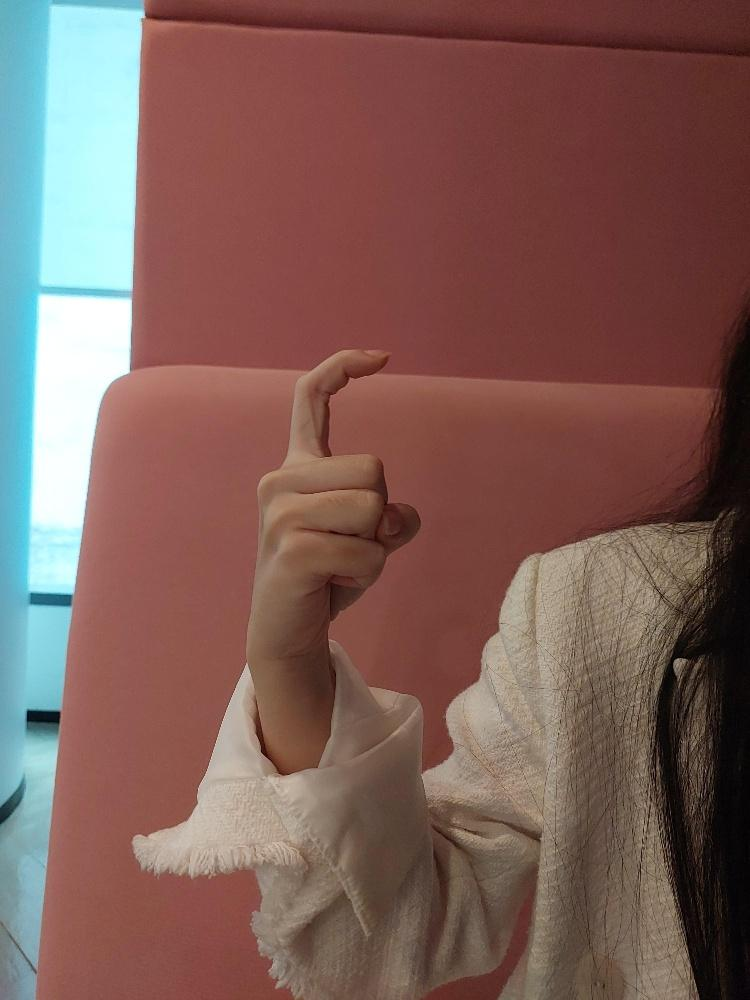x: (251, 347, 421, 624)
